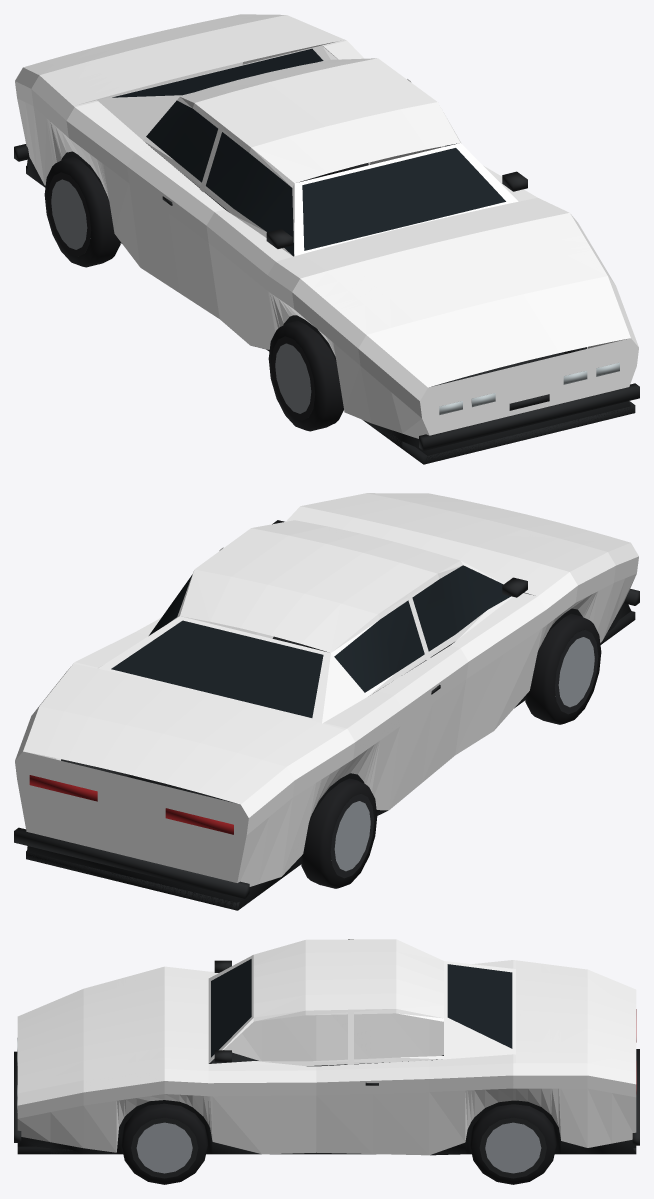
Rendered from kanaya_solano.glb.
3 renders of one model, top to bottom at view 1: azimuth 30°, elevation 25°; view 2: azimuth 150°, elevation 25°; view 3: azimuth 270°, elevation 25°, orthographic. The views are drawn at different scales.
Visible parts, largest first — view 1: Body_Paint, Body_Details, Mount_FrontLeft_Wheel_Details, Mount_RearLeft_Wheel_Details; view 2: Body_Paint, Body_Details, Mount_RearLeft_Wheel_Details, Mount_FrontLeft_Wheel_Details; view 3: Body_Paint, Body_Details, Mount_FrontRight_Wheel_Details, Mount_RearRight_Wheel_Details.
Boxes of the visible parts, x1,y1,x2,y2 form: Body_Paint: (15,14,638,438); Body_Details: (14,48,639,464); Mount_FrontLeft_Wheel_Details: (268,320,343,431); Mount_RearLeft_Wheel_Details: (44,156,120,267); Body_Paint: (15,493,638,886); Body_Details: (14,520,639,910); Mount_RearLeft_Wheel_Details: (300,778,377,888); Mount_FrontLeft_Wheel_Details: (524,614,601,724); Body_Paint: (17,939,636,1155); Body_Details: (14,959,639,1155); Mount_FrontRight_Wheel_Details: (121,1103,207,1184); Mount_RearRight_Wheel_Details: (470,1104,556,1184).
Size of the model in its own units: 1.95 by 1.34 by 4.7.
Materials: 2 (1 with a texture image).
